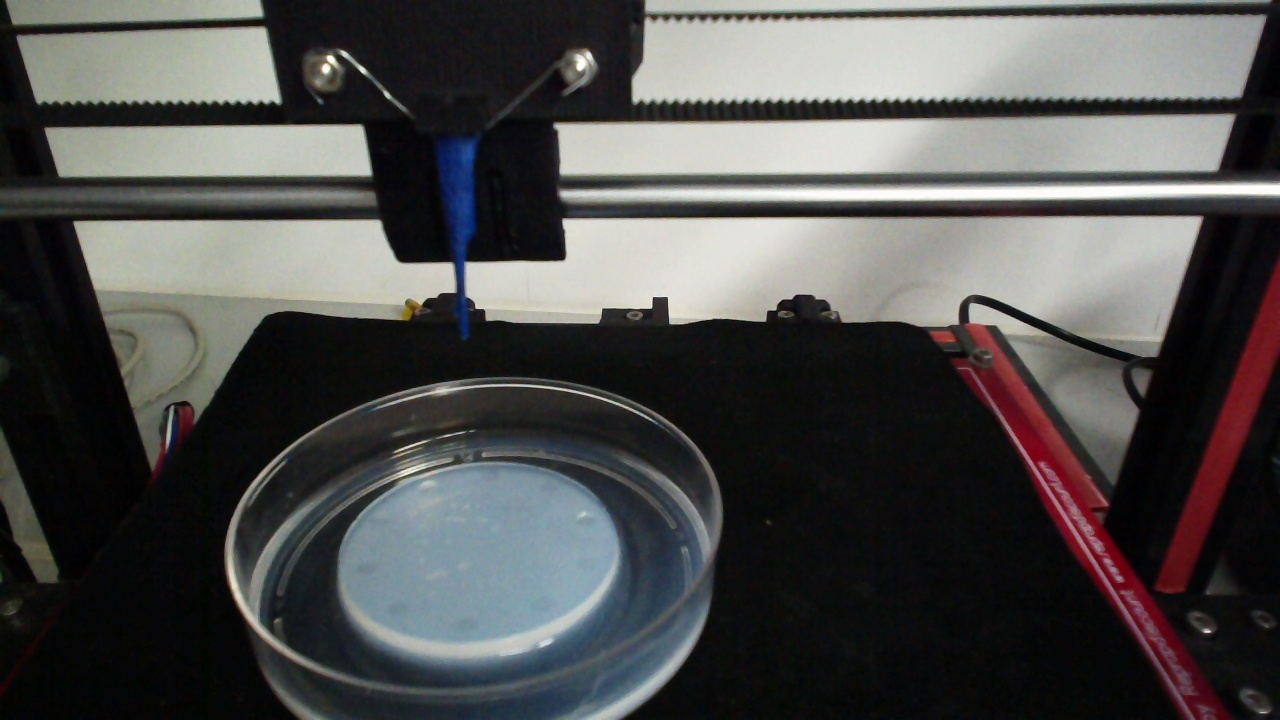groove: (529, 594, 555, 614), (385, 599, 409, 617), (456, 616, 480, 634), (574, 510, 599, 527), (576, 553, 598, 572), (416, 479, 439, 497), (355, 559, 379, 576), (539, 479, 561, 495), (482, 467, 502, 484), (370, 511, 392, 526)
needle: (440, 138, 475, 336)
